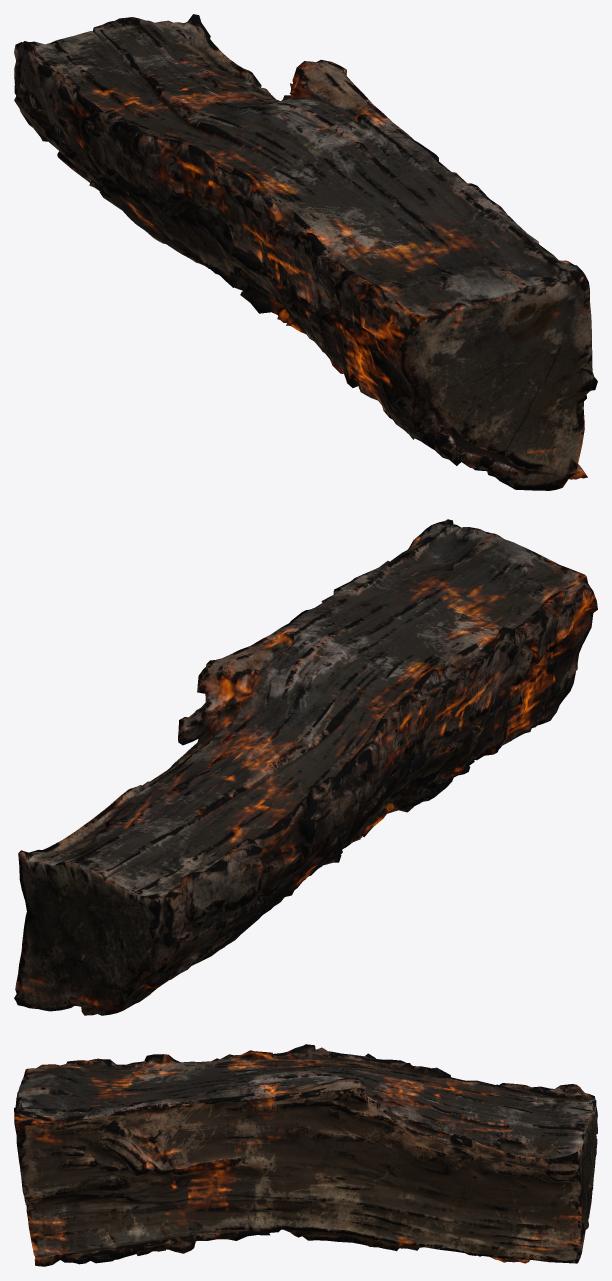
Rendered from SM_FireWood.fbx.
3 views of the same model, one above another, from view 1: azimuth 30°, elevation 25°; view 2: azimuth 150°, elevation 25°; view 3: azimuth 270°, elevation 25° (orthographic). The views are drawn at different scales.
Visible parts, largest first — view 1: SM_FireWood_LOD0; view 2: SM_FireWood_LOD0; view 3: SM_FireWood_LOD0.
Part boxes in pixels (left/top/right/bottom): SM_FireWood_LOD0: left=14, top=14, right=597, bottom=490; SM_FireWood_LOD0: left=14, top=519, right=597, bottom=1015; SM_FireWood_LOD0: left=14, top=1044, right=597, bottom=1266.
Size of the model in its own units: 8.49 by 28.67 by 9.63.
